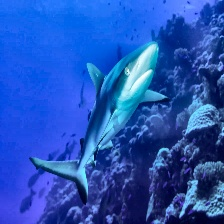shark: (54, 41, 166, 220)
